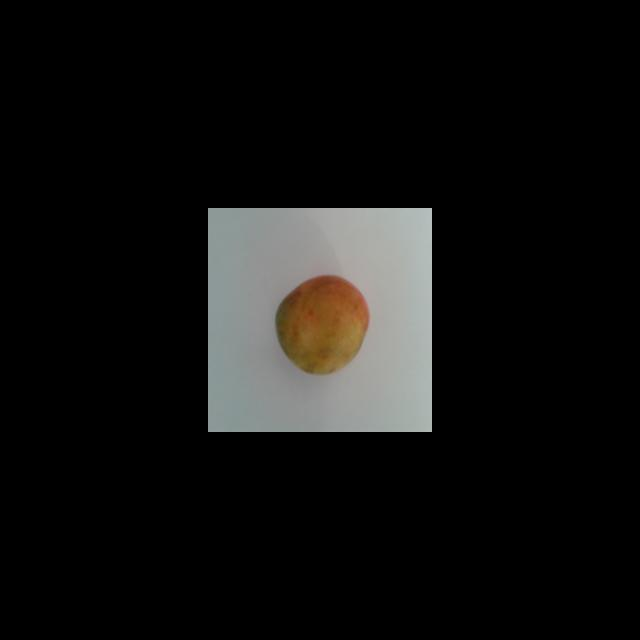Mango: (274, 274, 369, 374)
